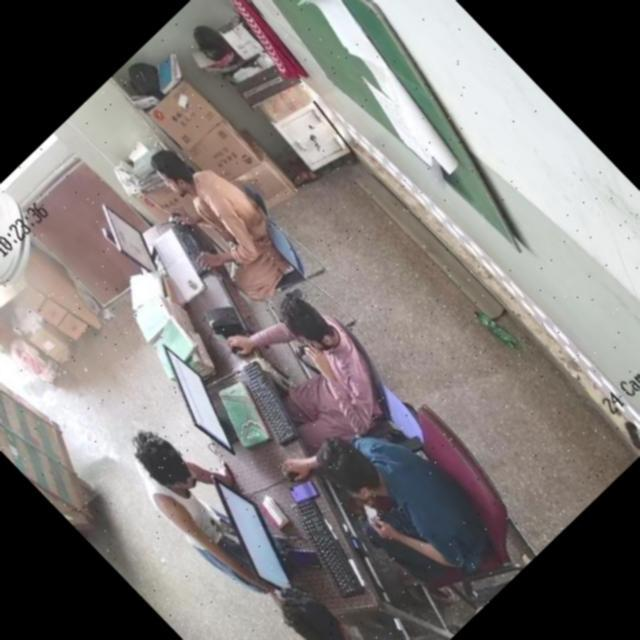person: (299, 397, 497, 598), (110, 424, 280, 596), (136, 131, 300, 298), (234, 285, 396, 450), (256, 565, 412, 640)
